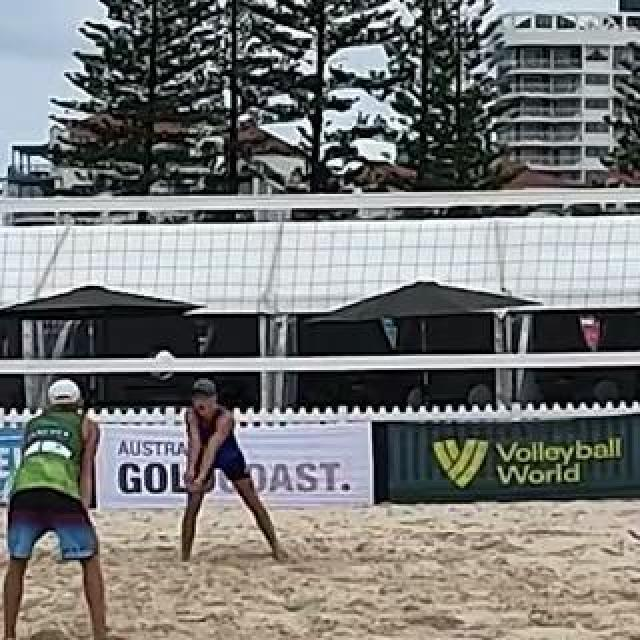volleyball: (148, 348, 176, 380)
